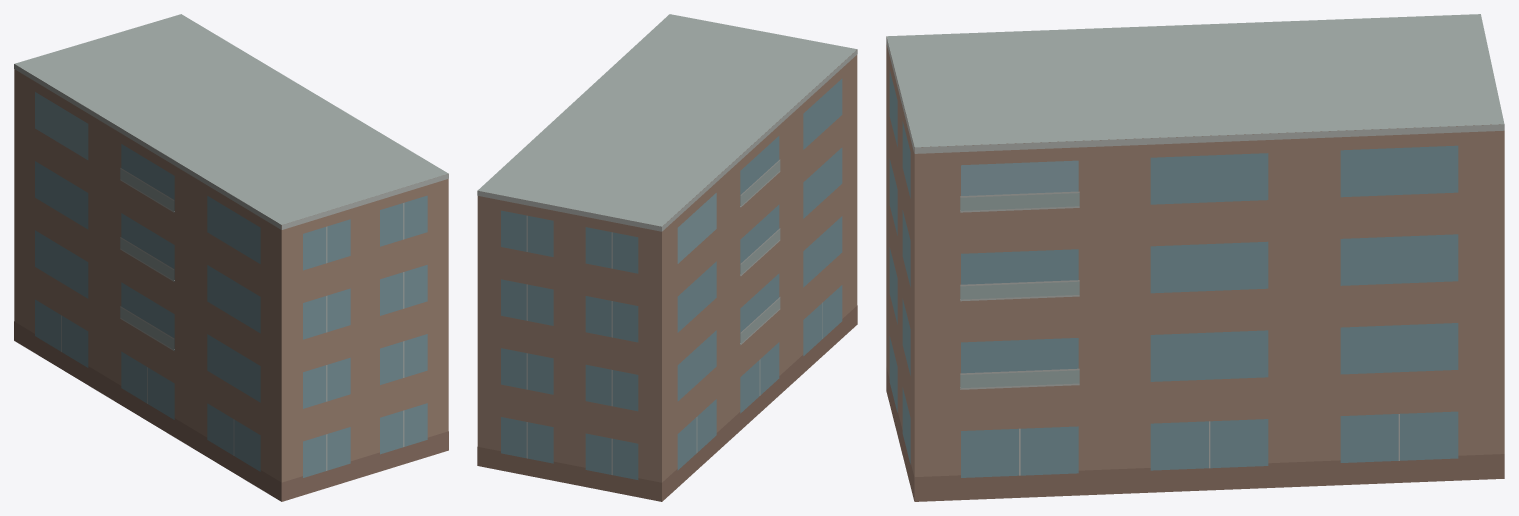
Rendered from survey-upis-32628162.glb.
3 views of the same model, side by side, from view 1: azimuth 30°, elevation 25°; view 2: azimuth 150°, elevation 25°; view 3: azimuth 270°, elevation 25° (orthographic). The views are drawn at different scales.
Parts seen in each view (by area): view 1: survey-upis-32628162.tmp; view 2: survey-upis-32628162.tmp; view 3: survey-upis-32628162.tmp.
Boxes of the visible parts, bbox=[...] form: survey-upis-32628162.tmp: bbox=[14, 14, 448, 501]; survey-upis-32628162.tmp: bbox=[477, 14, 857, 501]; survey-upis-32628162.tmp: bbox=[886, 14, 1504, 501].
Bounding box in the file's own units: 10.66 × 13.2 × 20.87.
